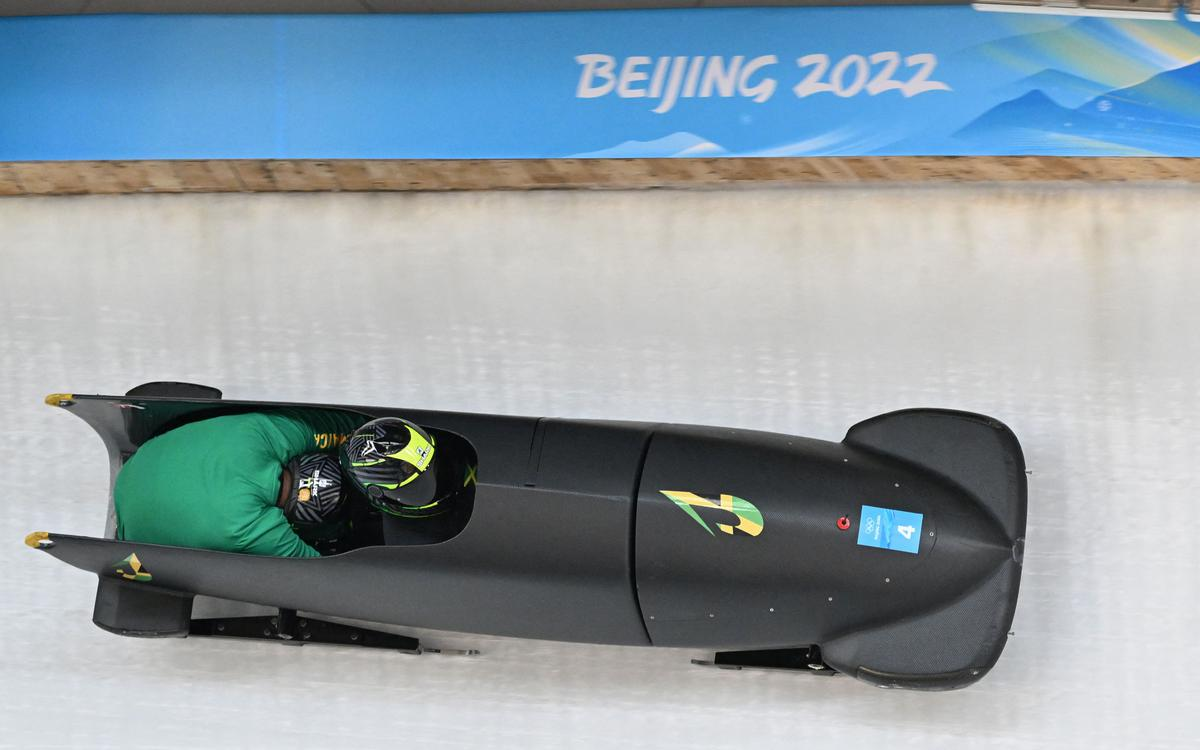Bobsleigh: (27, 377, 1026, 690)
